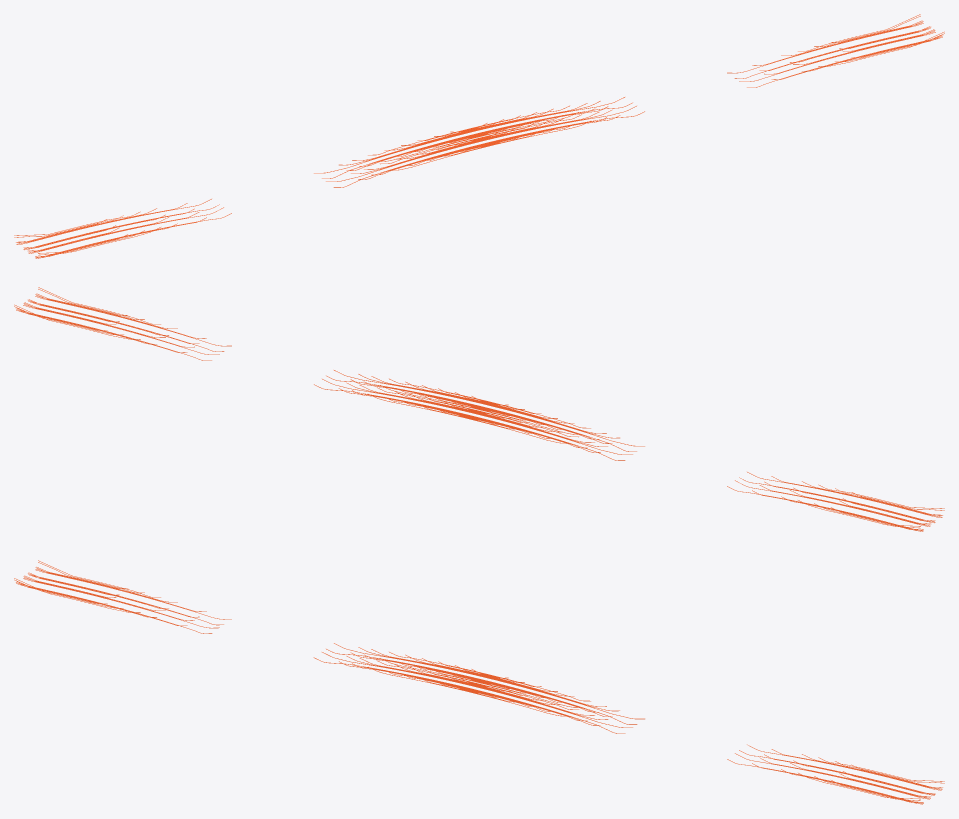
Rendered from steel-bottom.glb.
3 renders of one model, top to bottom at view 1: azimuth 30°, elevation 25°; view 2: azimuth 150°, elevation 25°; view 3: azimuth 330°, elevation 25°, orthographic.
Parts seen in each view (by area): view 1: 底板束; view 2: 底板束; view 3: 底板束.
Part boxes in pixels (<box>): 底板束: <box>14,14,944,258</box>; 底板束: <box>14,287,944,531</box>; 底板束: <box>14,560,944,804</box>.
Bounding box in the file's own units: 219 × 2.89 × 10.14.
